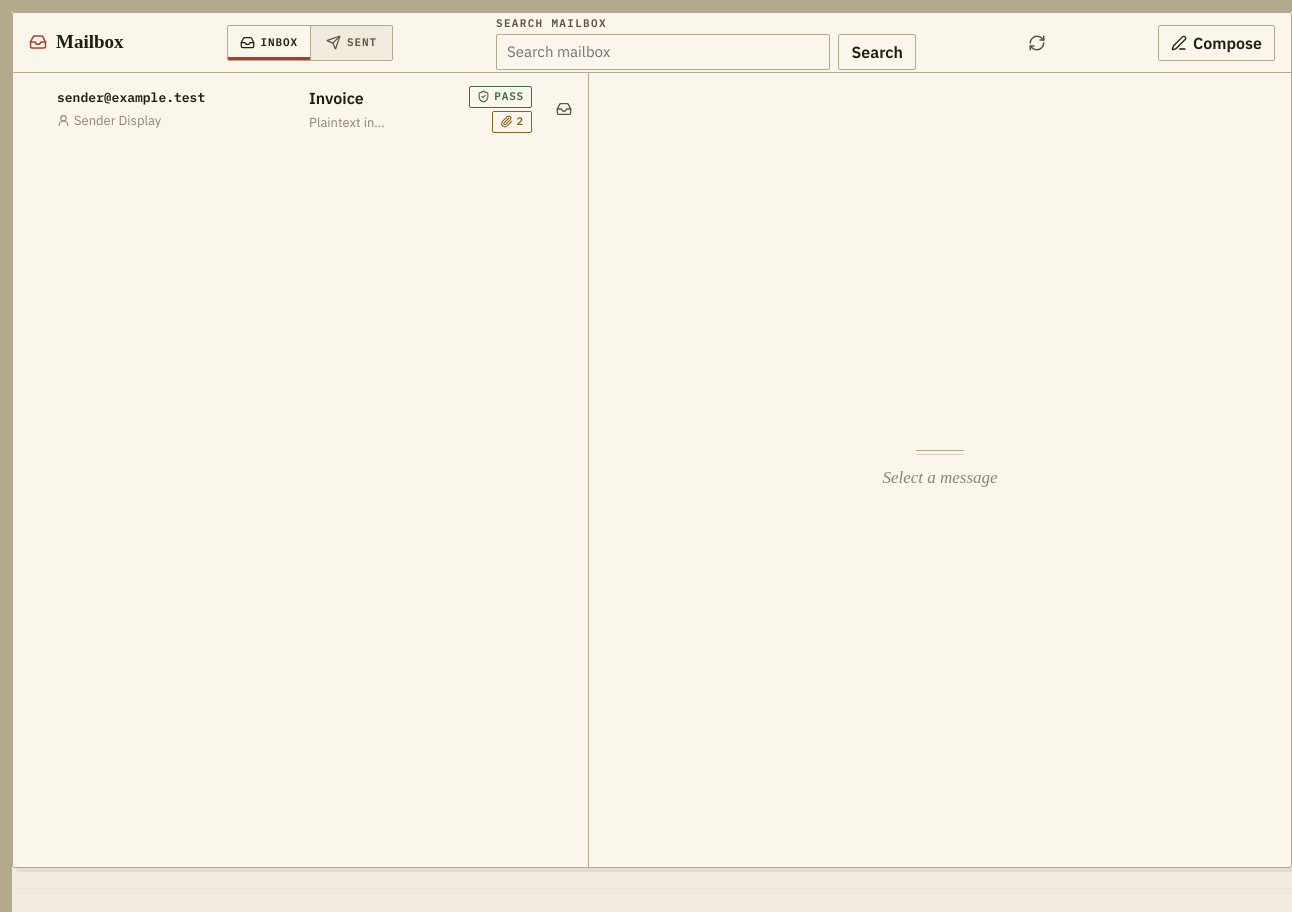
Test: MailboxView › marks messages unread from the list
The image size is (1292, 912).
What coordinates should you click on to do the following:
click the button named "Mark unread"
I would click on:
 (564, 109)
Its box is [546,91,582,127].
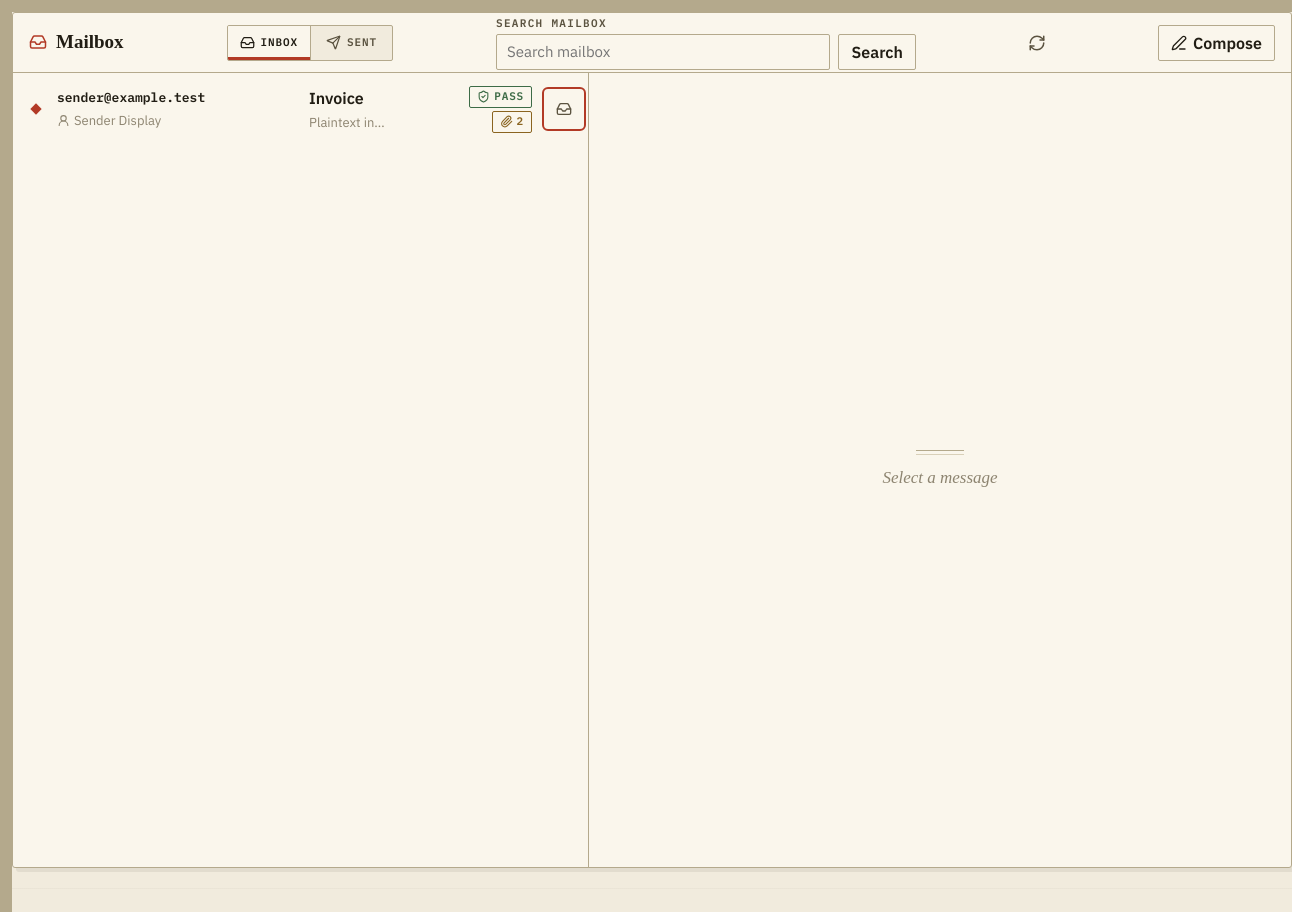
Expected: the element named "Unread message" is shown, [30,103,42,115]
